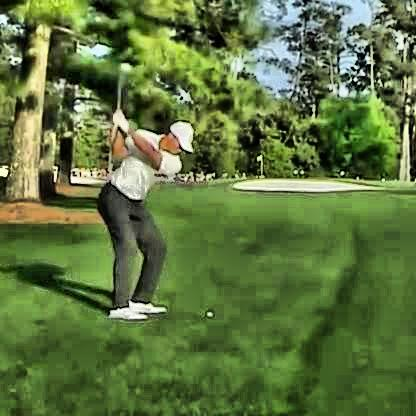golfball: (203, 308, 210, 315)
